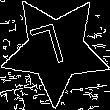L_S: (34, 21, 77, 78)
